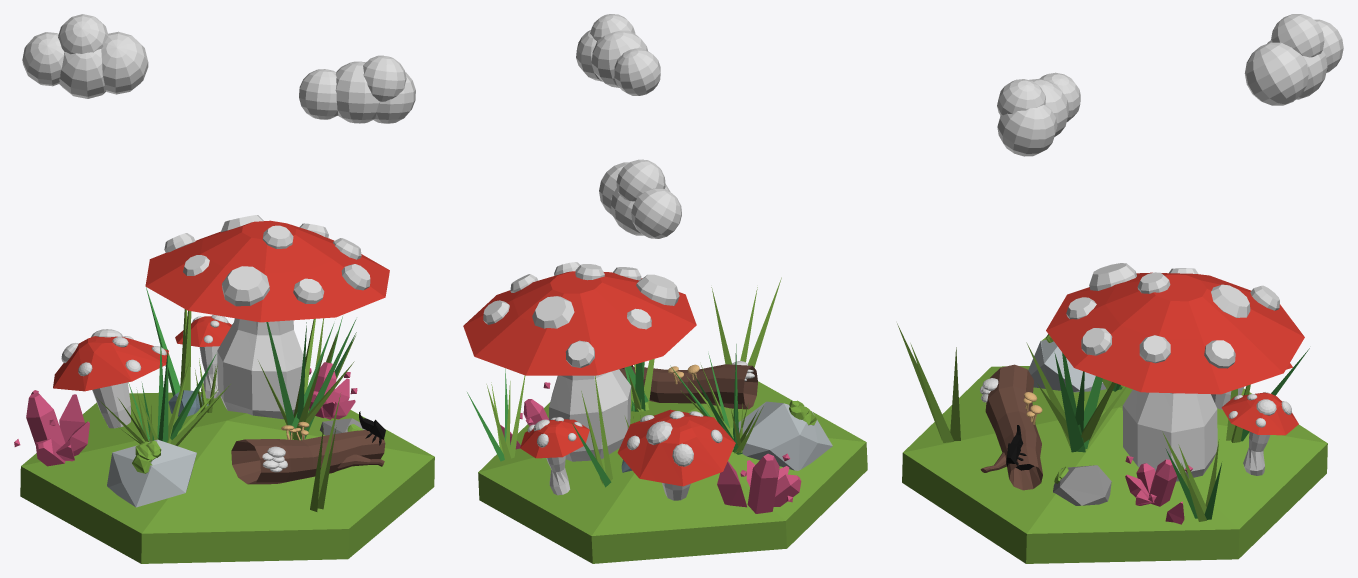
File: mushrooms.glb
3 renders of one model, left to right at view 1: azimuth 30°, elevation 25°; view 2: azimuth 150°, elevation 25°; view 3: azimuth 270°, elevation 25°, orthographic. The views are drawn at different scales.
Parts seen in each view (by area): view 1: node_MeshObject1638129664-PolyPaper19, node_MeshObject-1794344960-PolyPaper9; view 2: node_MeshObject1638129664-PolyPaper19, node_MeshObject-1794344960-PolyPaper9; view 3: node_MeshObject1638129664-PolyPaper19, node_MeshObject-1794344960-PolyPaper9.
Boxes of the visible parts, x1,y1,x2,y2 form: node_MeshObject1638129664-PolyPaper19: (14,14,434,563); node_MeshObject-1794344960-PolyPaper9: (26,287,385,472); node_MeshObject1638129664-PolyPaper19: (463,14,867,563); node_MeshObject-1794344960-PolyPaper9: (520,344,801,513); node_MeshObject1638129664-PolyPaper19: (897,14,1343,563); node_MeshObject-1794344960-PolyPaper9: (980,348,1309,475).
Size of the model in its own units: 0.8902 by 1.1 by 0.9726.
